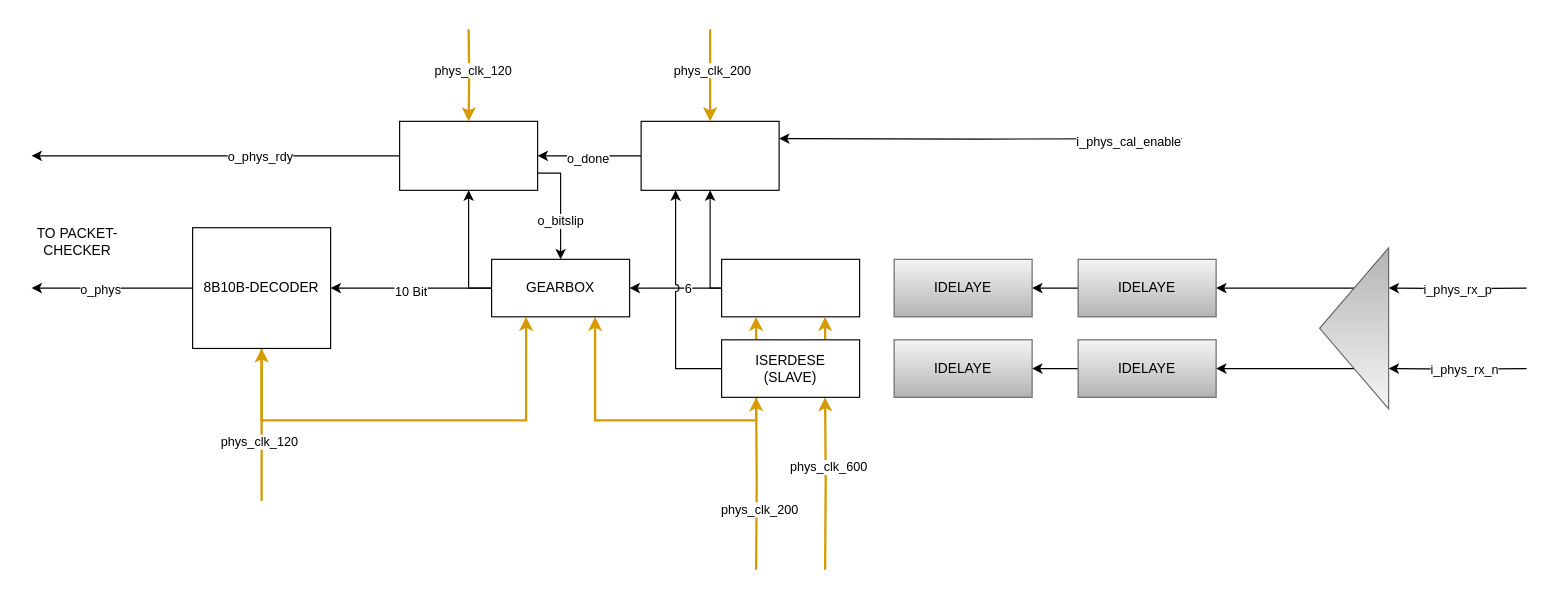
The diagram is 1556 pixels wide and 599 high, and some of its shapes have lost their labels. The shapes that lost their labels are listed below. From the top down, each one's centre as x and y in pixels, then its label:
At pixel 468 155: "WORD-ALIGNER".
At pixel 709 155: "TAB-CALIB & MONITOR".
At pixel 790 287: "ISERDESE (MASTER)".
